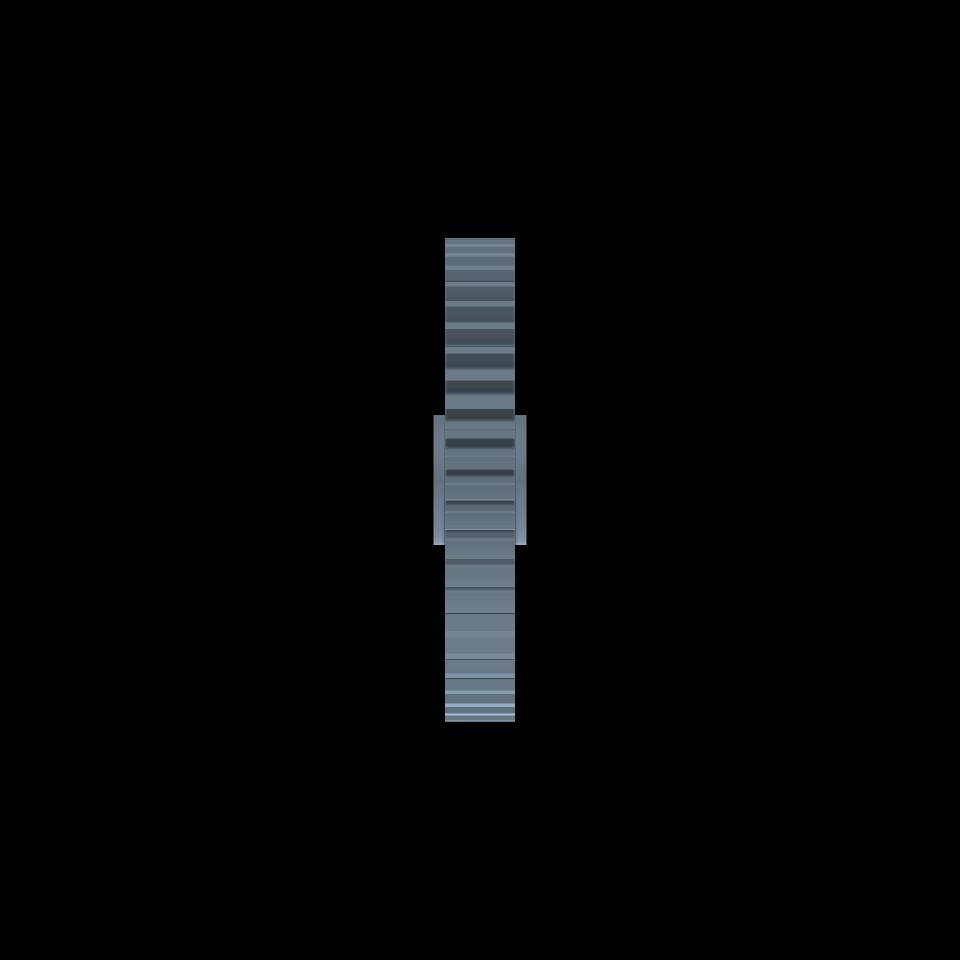Straight: (445, 236, 514, 721)
